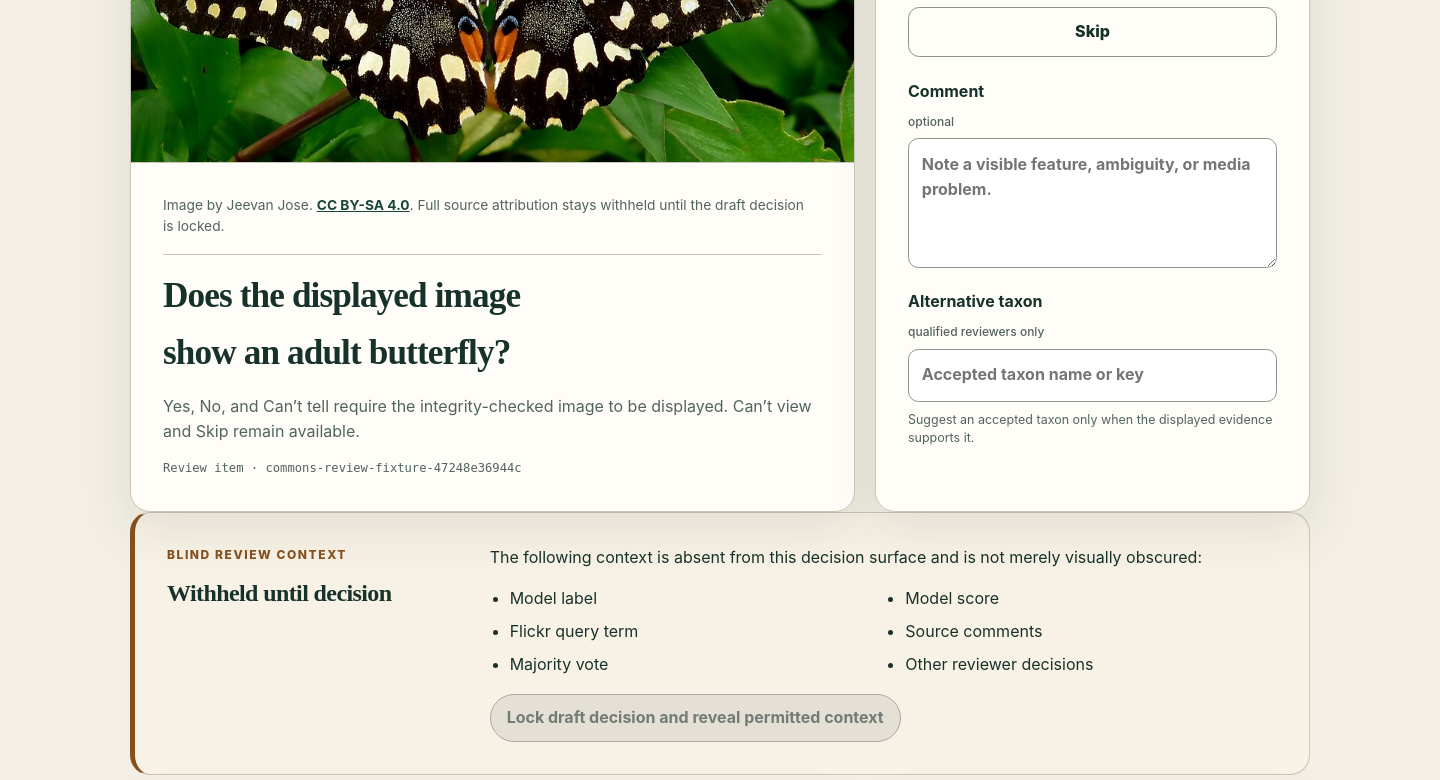
Test: review-first landing experience › permits alternative taxa only for a qualified reviewer
The width and height of the screenshot is (1440, 780).
(page scrolled)
Type "Papilionidae" into the field labelled "Alternative taxon qualified reviewers only". click: [1092, 375]
box: x1=908 y1=349 x2=1277 y2=402
(page scrolled)
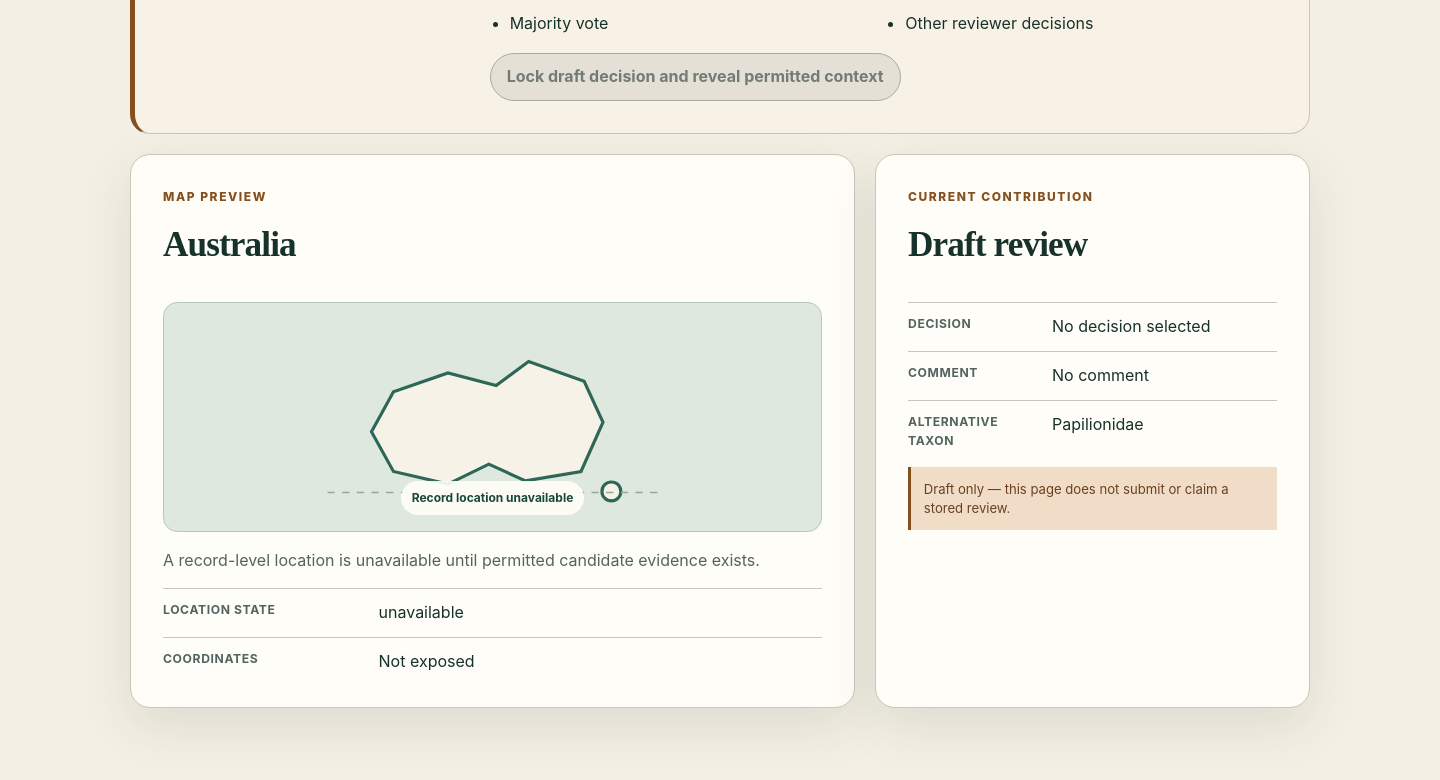
Now the text "Papilionidae" is shown, box x1=1052 y1=414 x2=1144 y2=434
